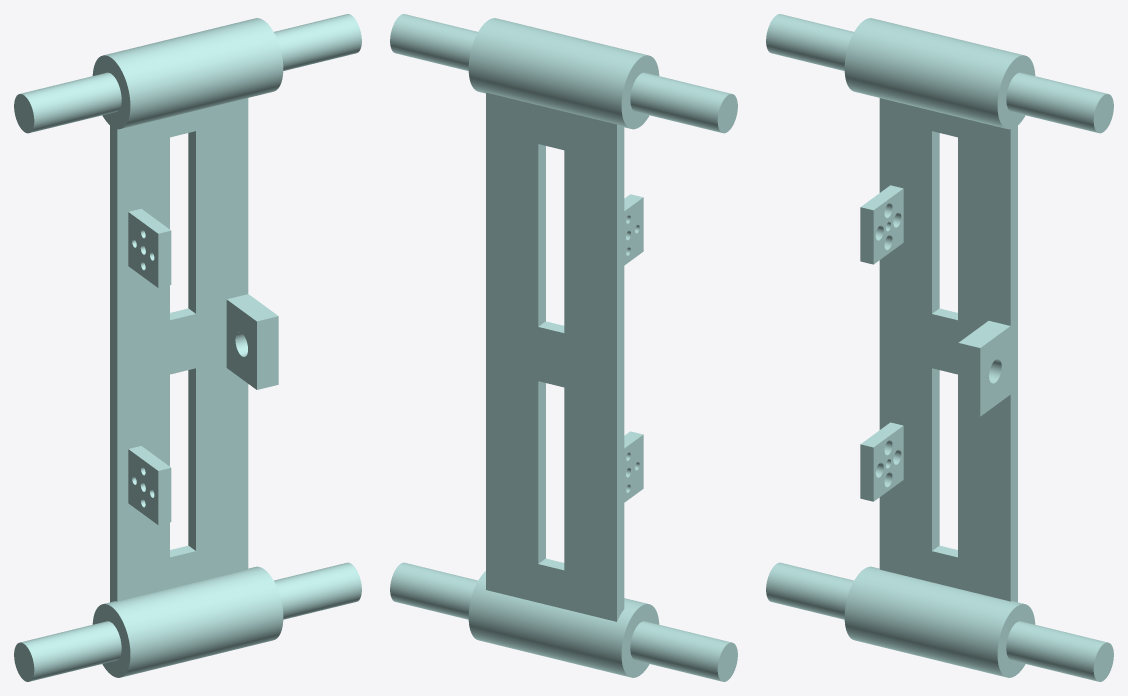
The model's file is Wheel Bar - Part 1.gltf.
3 renders of one model, left to right at view 1: azimuth 30°, elevation 25°; view 2: azimuth 150°, elevation 25°; view 3: azimuth 330°, elevation 25°, orthographic.
Visible parts, largest first — view 1: Part 1; view 2: Part 1; view 3: Part 1.
Boxes of the visible parts, x1,y1,x2,y2 form: Part 1: (14,14,361,681); Part 1: (390,14,737,681); Part 1: (766,14,1113,681).
Size of the model in its own units: 0.1905 by 0.3428 by 0.0444.
